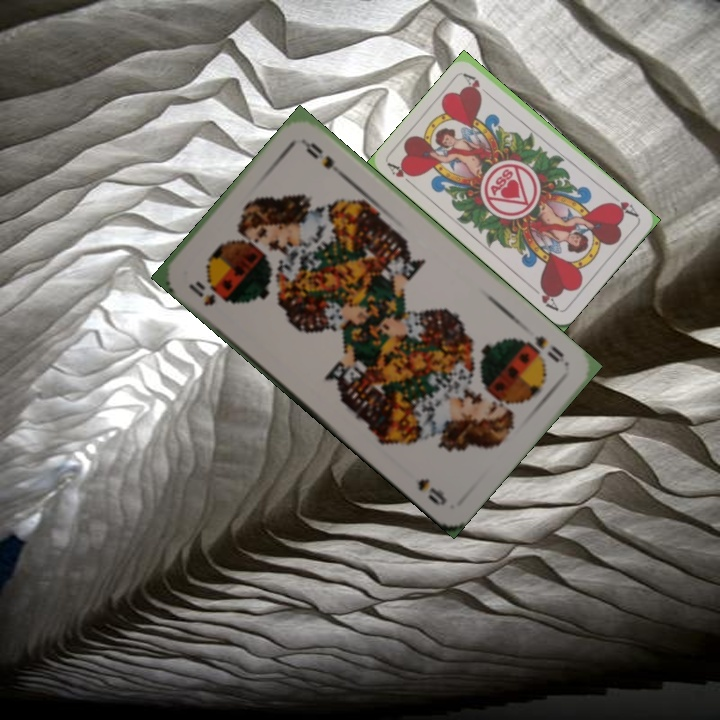HA: (605, 190, 642, 220), (384, 159, 418, 191)
SO: (184, 277, 230, 309), (530, 331, 567, 365)
